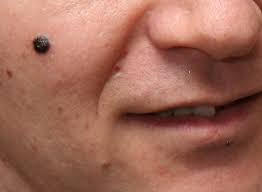tahilalat: (1, 2, 95, 108)
